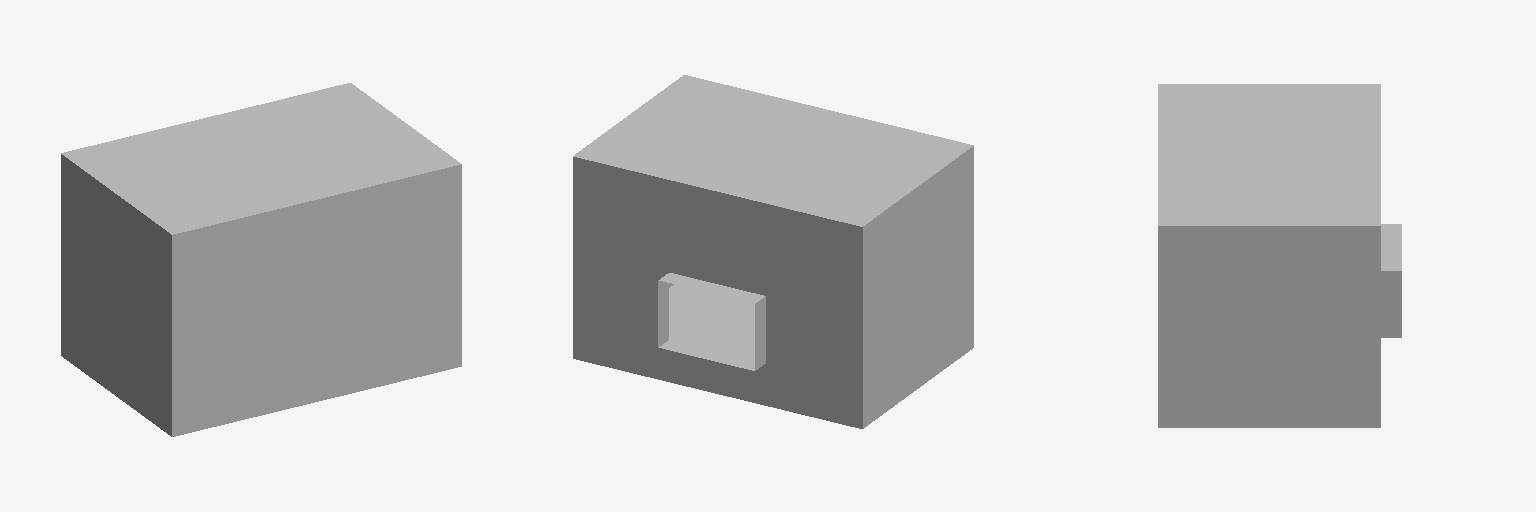
The model's file is Bedroom.obj.
3 renders of one model, left to right at view 1: azimuth 30°, elevation 25°; view 2: azimuth 150°, elevation 25°; view 3: azimuth 270°, elevation 25°, orthographic.
Visible parts, largest first — view 1: Cube_Cube.001; view 2: Cube_Cube.001; view 3: Cube_Cube.001.
Part boxes in pixels (bbox=[...]): Cube_Cube.001: bbox=[61, 83, 461, 436]; Cube_Cube.001: bbox=[573, 75, 973, 428]; Cube_Cube.001: bbox=[1158, 84, 1401, 427].
Bounding box in the file's own units: 9 × 6 × 6.58.